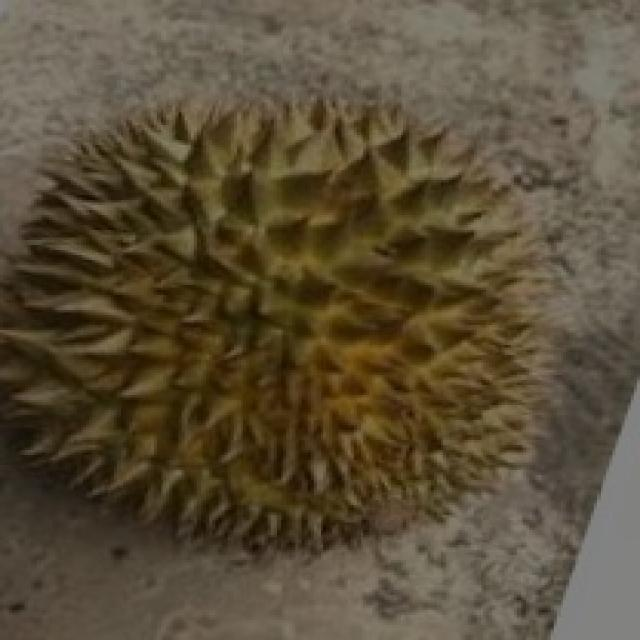fruit: (224, 232, 634, 620), (0, 232, 366, 620)
